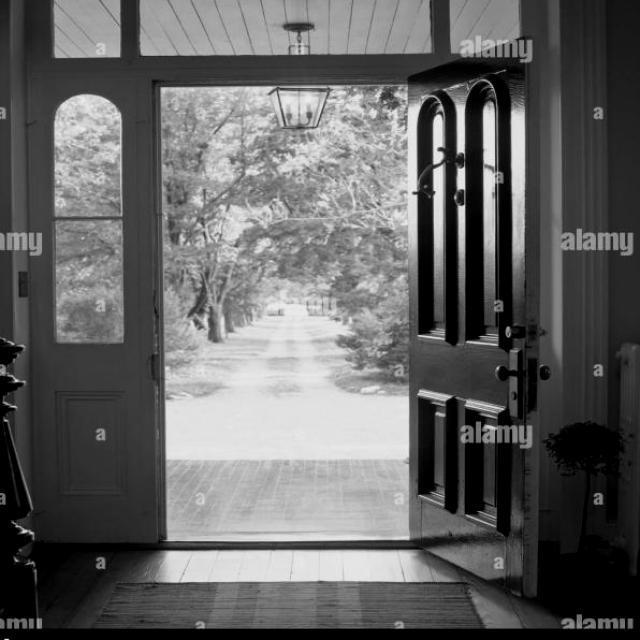door: (407, 59, 532, 589)
